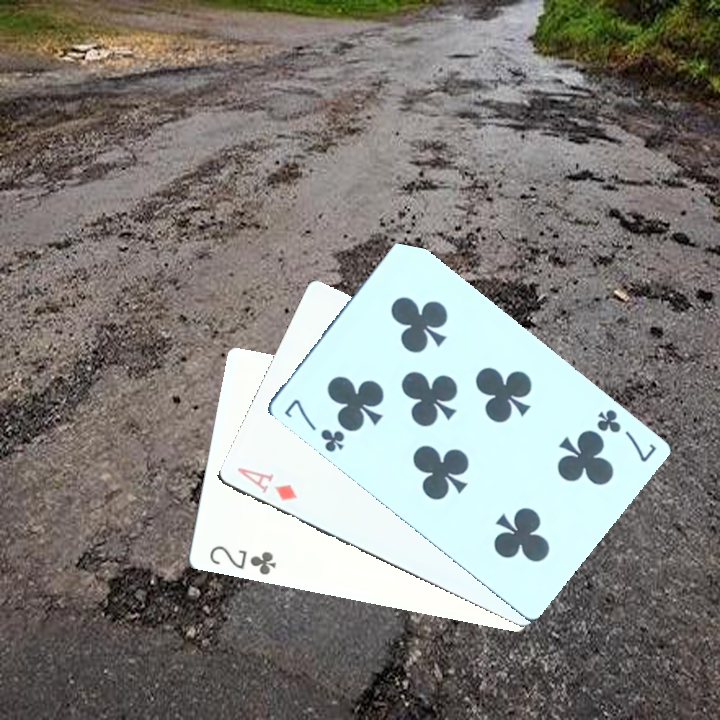2c: (205, 541, 279, 578)
7c: (280, 395, 347, 455), (592, 405, 659, 465)
Ad: (233, 463, 300, 504)
